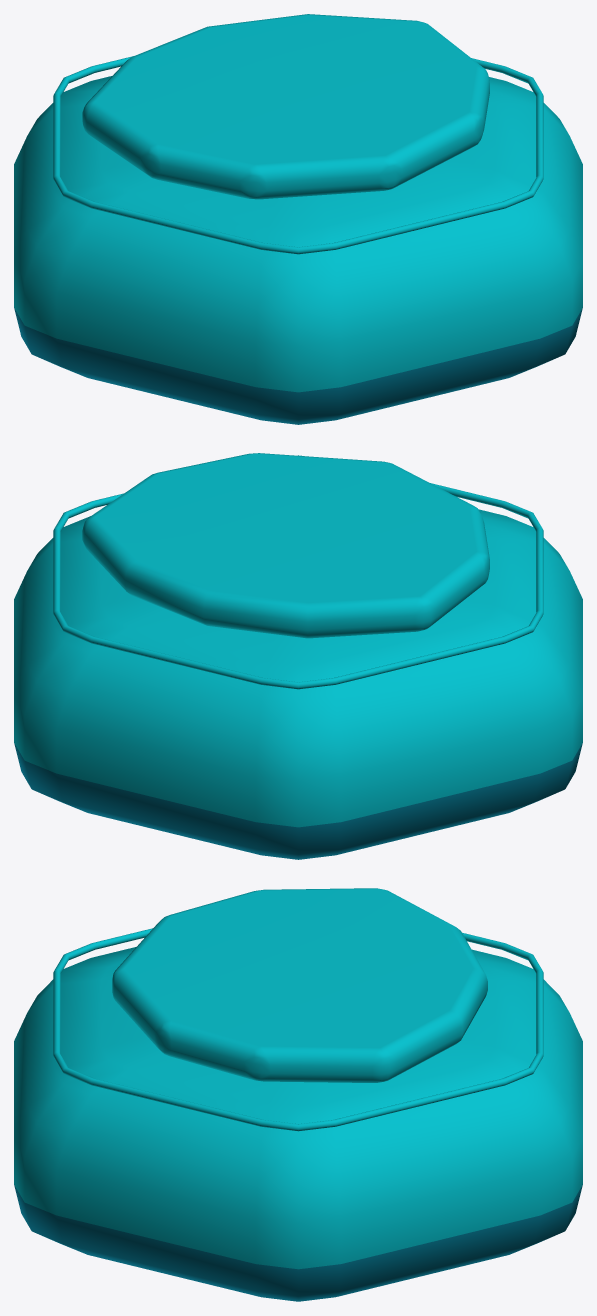
Rendered from HX_Stone_04_Turquoise_ToneRelief_Blank.fbx.
3 views of the same model, one above another, from view 1: azimuth 30°, elevation 25°; view 2: azimuth 150°, elevation 25°; view 3: azimuth 270°, elevation 25° (orthographic).
Visible parts, largest first — view 1: HX_V03_Turquoise_Body, HX_ToneRelief_04, HX_V03_Turquoise_InnerRim; view 2: HX_V03_Turquoise_Body, HX_ToneRelief_04, HX_V03_Turquoise_InnerRim; view 3: HX_V03_Turquoise_Body, HX_ToneRelief_04, HX_V03_Turquoise_InnerRim.
Part boxes in pixels (x1,y1,x2,y2): HX_V03_Turquoise_Body: [14, 76, 582, 424]; HX_ToneRelief_04: [82, 14, 489, 199]; HX_V03_Turquoise_InnerRim: [53, 56, 543, 254]; HX_V03_Turquoise_Body: [14, 509, 582, 859]; HX_ToneRelief_04: [82, 453, 489, 638]; HX_V03_Turquoise_InnerRim: [53, 455, 543, 689]; HX_V03_Turquoise_Body: [14, 947, 582, 1301]; HX_ToneRelief_04: [112, 888, 487, 1082]; HX_V03_Turquoise_InnerRim: [53, 928, 543, 1131].
Size of the model in its own units: 75.07 by 28.4 by 67.55.
